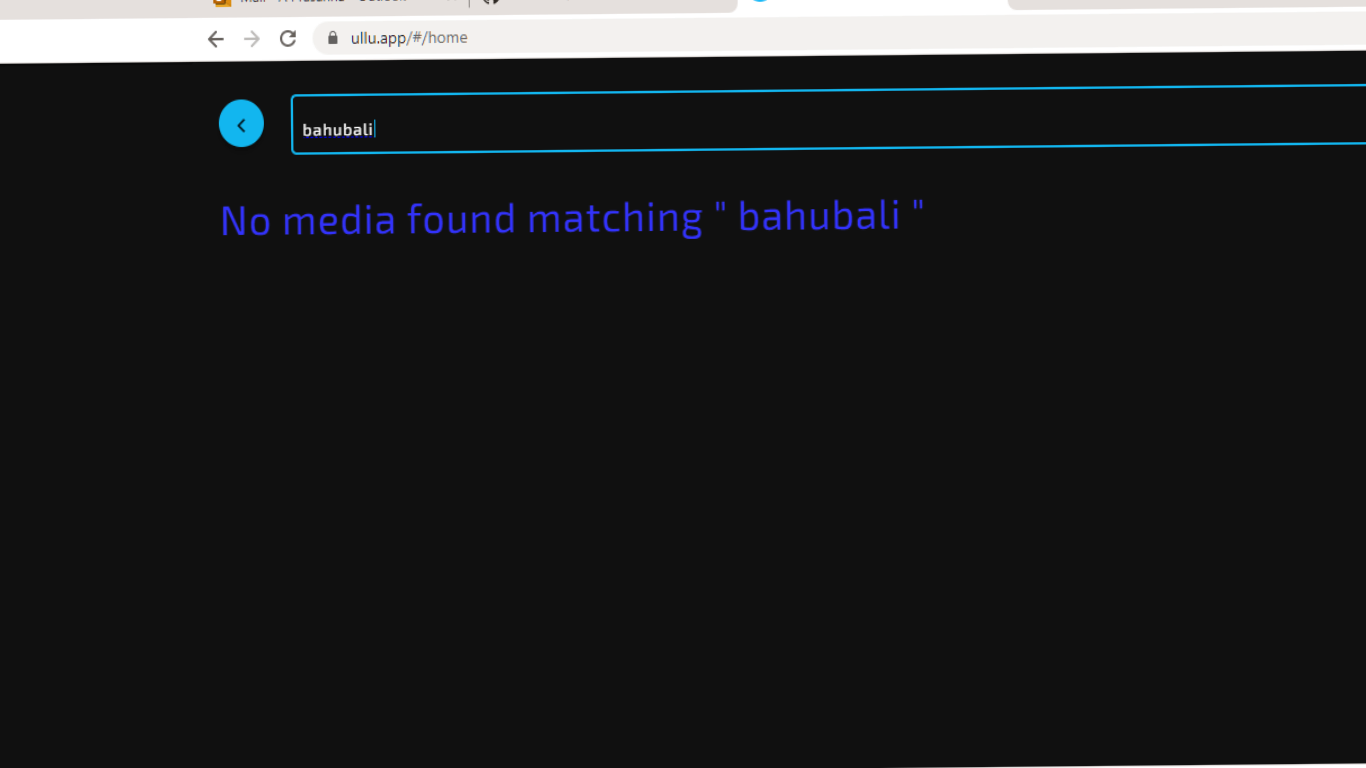noresultsfound: (211, 186, 933, 253)
searchtextbox: (283, 85, 1366, 157)
